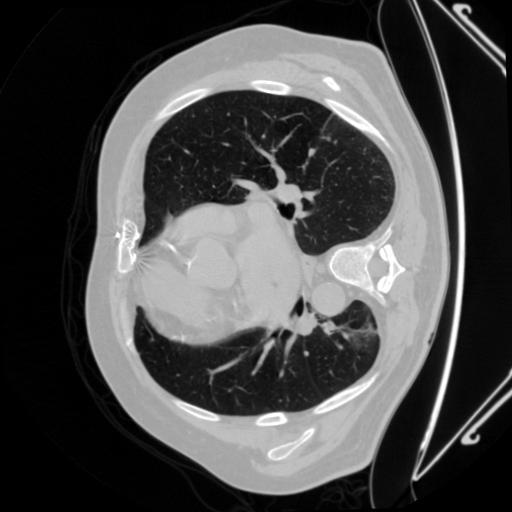nodule: (301, 347, 312, 358)
